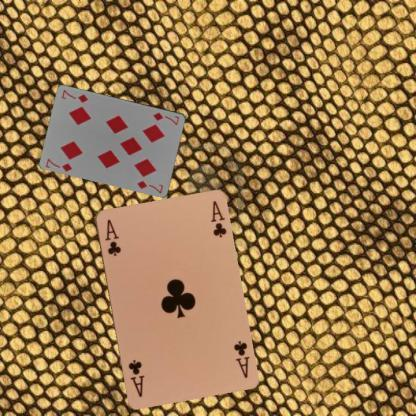7d: (150, 109, 180, 127), (44, 156, 74, 173)
Ac: (102, 216, 122, 258), (230, 338, 250, 380)
